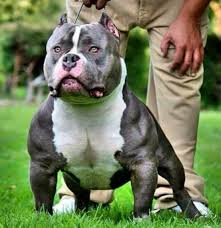Perro Pitbull: (23, 12, 173, 227)
